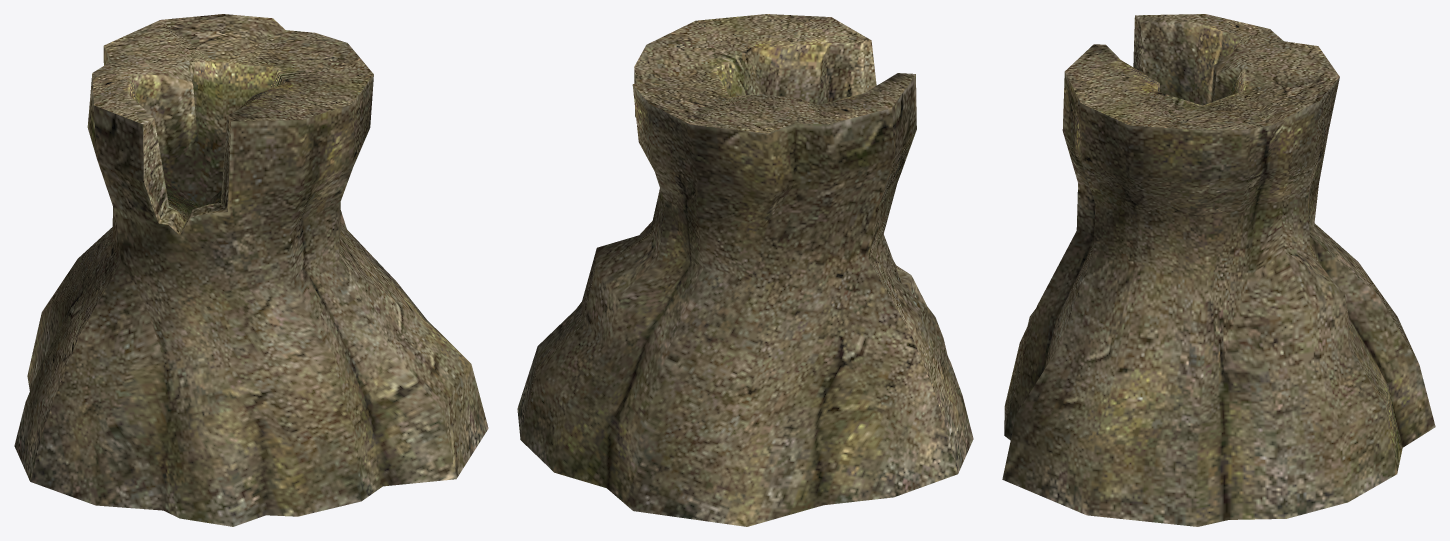
The model's file is anthill_02.fbx.
The picture shows the model from 3 angles, left to right: view 1: azimuth 30°, elevation 25°; view 2: azimuth 150°, elevation 25°; view 3: azimuth 270°, elevation 25°; orthographic projection. The views are drawn at different scales.
Visible parts, largest first — view 1: objanthill_02; view 2: objanthill_02; view 3: objanthill_02.
Part boxes in pixels (x1,y1,x2,y2): objanthill_02: [14, 14, 488, 526]; objanthill_02: [517, 14, 973, 526]; objanthill_02: [1002, 14, 1435, 526].
Size of the model in its own units: 10.4 by 8.62 by 9.59.
